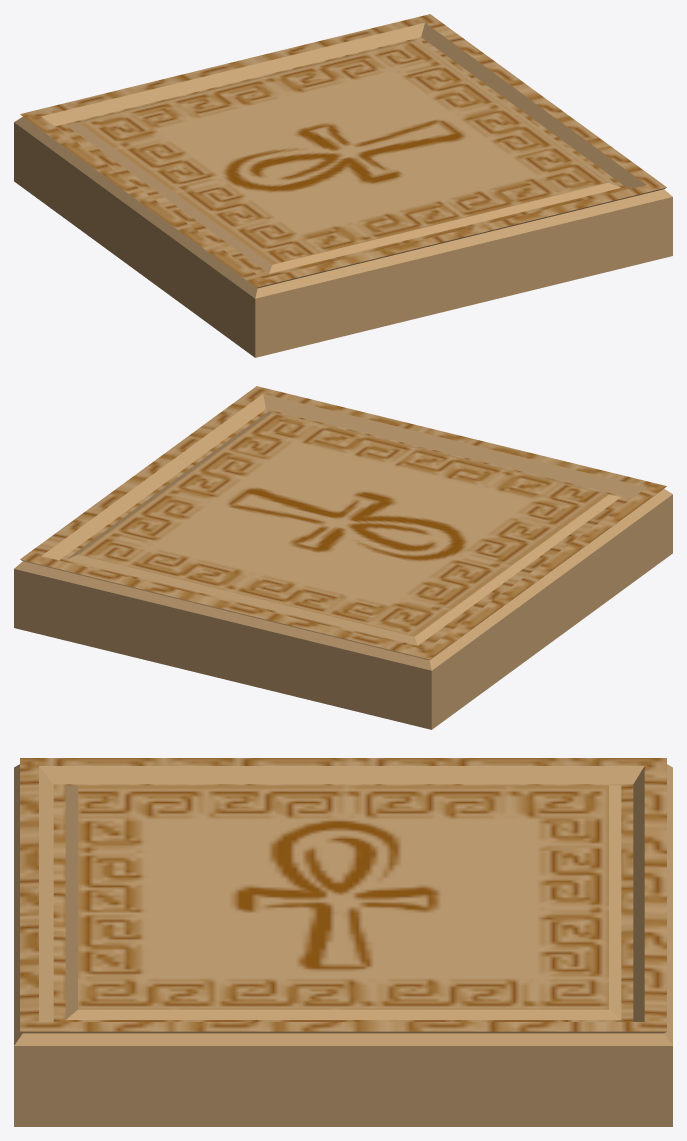
The model's file is botão.fbx.
3 renders of one model, top to bottom at view 1: azimuth 30°, elevation 25°; view 2: azimuth 150°, elevation 25°; view 3: azimuth 270°, elevation 25°, orthographic. The views are drawn at different scales.
Parts seen in each view (by area): view 1: botão; view 2: botão; view 3: botão.
Boxes of the visible parts, left/top/right/bottom form: botão: left=14, top=14, right=672, bottom=357; botão: left=14, top=386, right=672, bottom=729; botão: left=14, top=758, right=672, bottom=1126.
Size of the model in its own units: 298 by 48.96 by 298.
